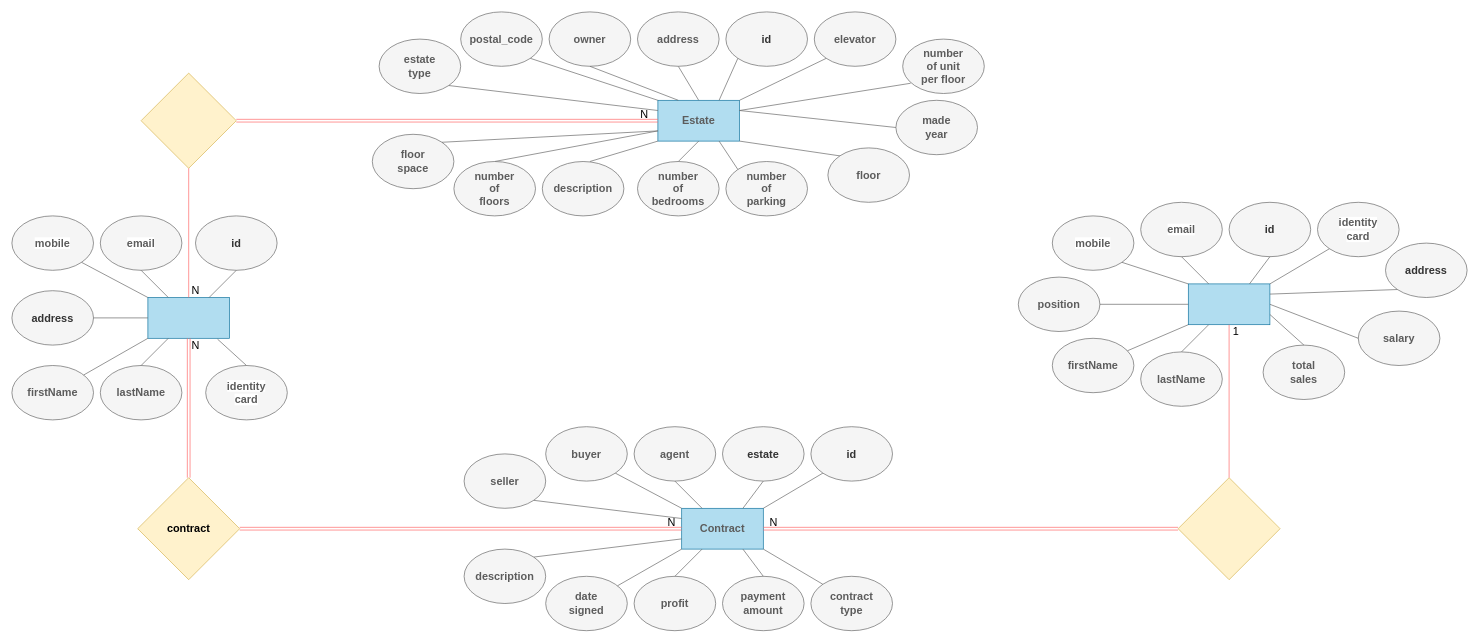
Some shapes in this 1479 by 643 pixel diagram are drawn without their labels. The box of each missing label's shape, as (x1, y1, x2, y2) in pixels:
Customer: (147, 297, 230, 338)
Employee: (1188, 283, 1270, 325)
Has: (140, 72, 236, 168)
manage: (1177, 477, 1280, 580)
